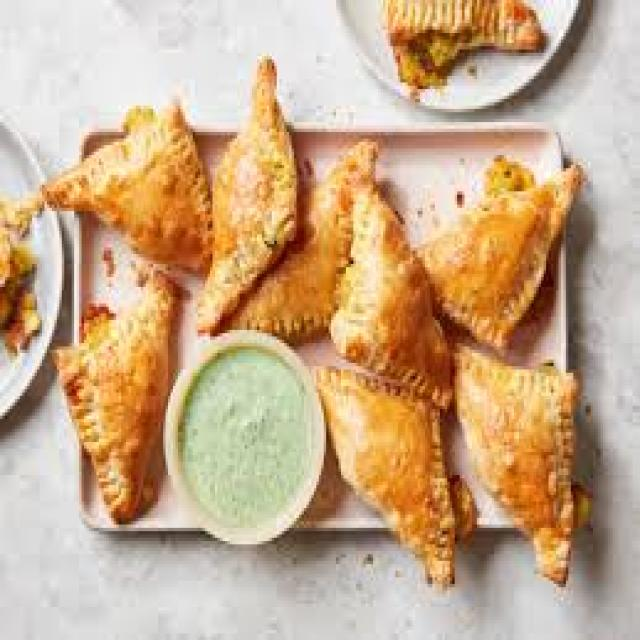SAMOSA: (59, 267, 175, 518), (423, 165, 581, 346), (319, 366, 452, 581), (455, 343, 576, 577), (230, 145, 373, 340), (331, 178, 450, 406), (198, 59, 294, 333), (47, 106, 208, 267)
